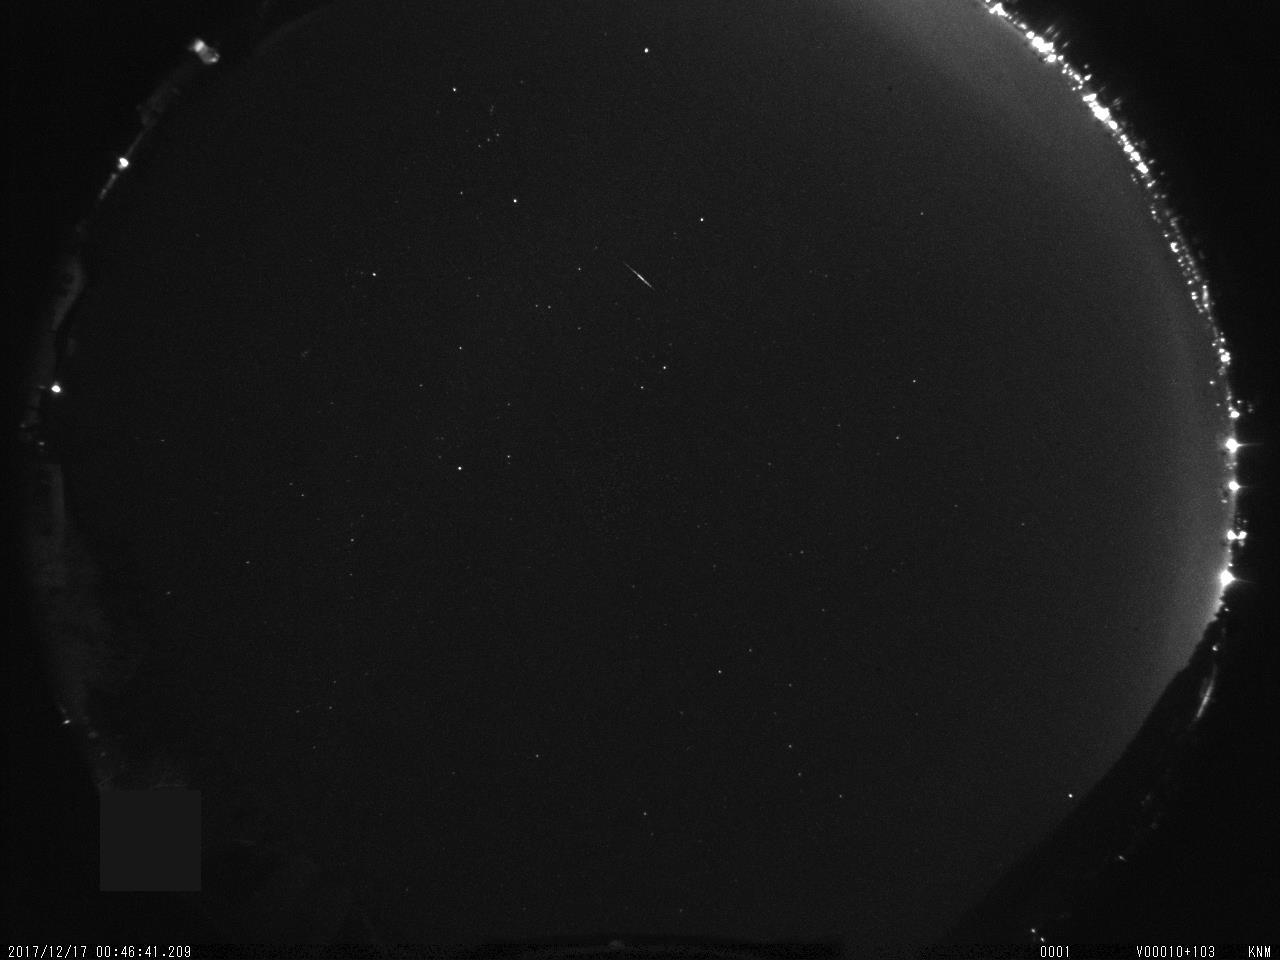meteor: (619, 256, 657, 295)
